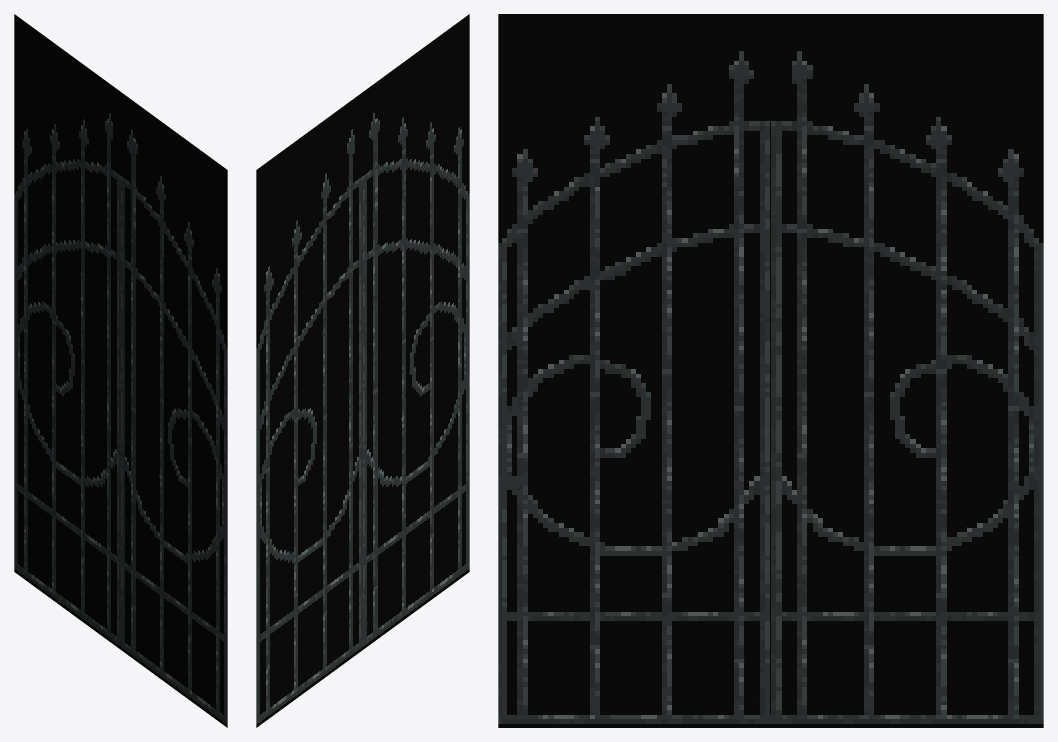
File: FenceGate.glb
The picture shows the model from 3 angles, left to right: view 1: azimuth 30°, elevation 25°; view 2: azimuth 150°, elevation 25°; view 3: azimuth 270°, elevation 25°; orthographic projection. The views are drawn at different scales.
Parts seen in each view (by area): view 1: FenceGate; view 2: FenceGate; view 3: FenceGate.
Boxes of the visible parts, bbox=[...] form: FenceGate: bbox=[14, 14, 227, 727]; FenceGate: bbox=[256, 14, 469, 727]; FenceGate: bbox=[498, 14, 1043, 727].
Size of the model in its own units: 6.57e-06 by 18.42 by 12.75.
Materials: 1 (1 with a texture image).
